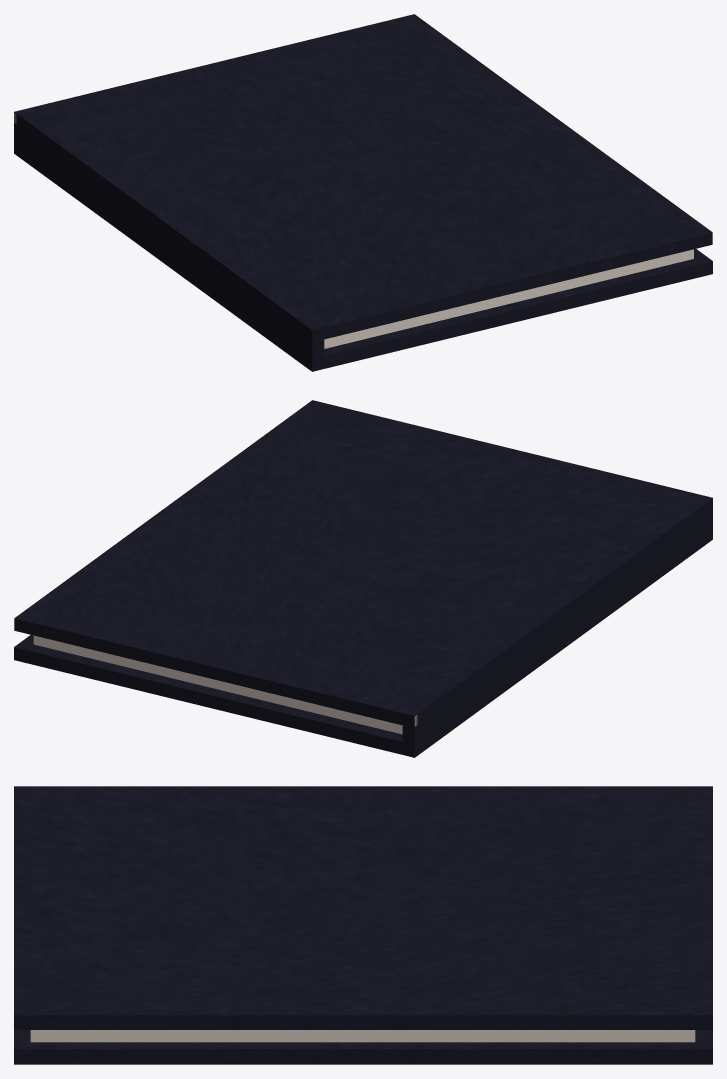
File: Accounting_Journal.fbx
The picture shows the model from 3 angles, top to bottom: view 1: azimuth 30°, elevation 25°; view 2: azimuth 150°, elevation 25°; view 3: azimuth 270°, elevation 25°; orthographic projection. The views are drawn at different scales.
Visible parts, largest first — view 1: Cube.014, Cube.009; view 2: Cube.014, Cube.009; view 3: Cube.014, Cube.009.
Part boxes in pixels (x1,y1,x2,y2): Cube.014: (14, 14, 712, 371); Cube.009: (324, 249, 693, 348); Cube.014: (14, 400, 712, 757); Cube.009: (33, 635, 402, 734); Cube.014: (14, 786, 712, 1064); Cube.009: (30, 1030, 695, 1042).
Bounding box in the file's own units: 18.29 × 1.82 × 23.57.
Materials: 2 (2 with a texture image).
